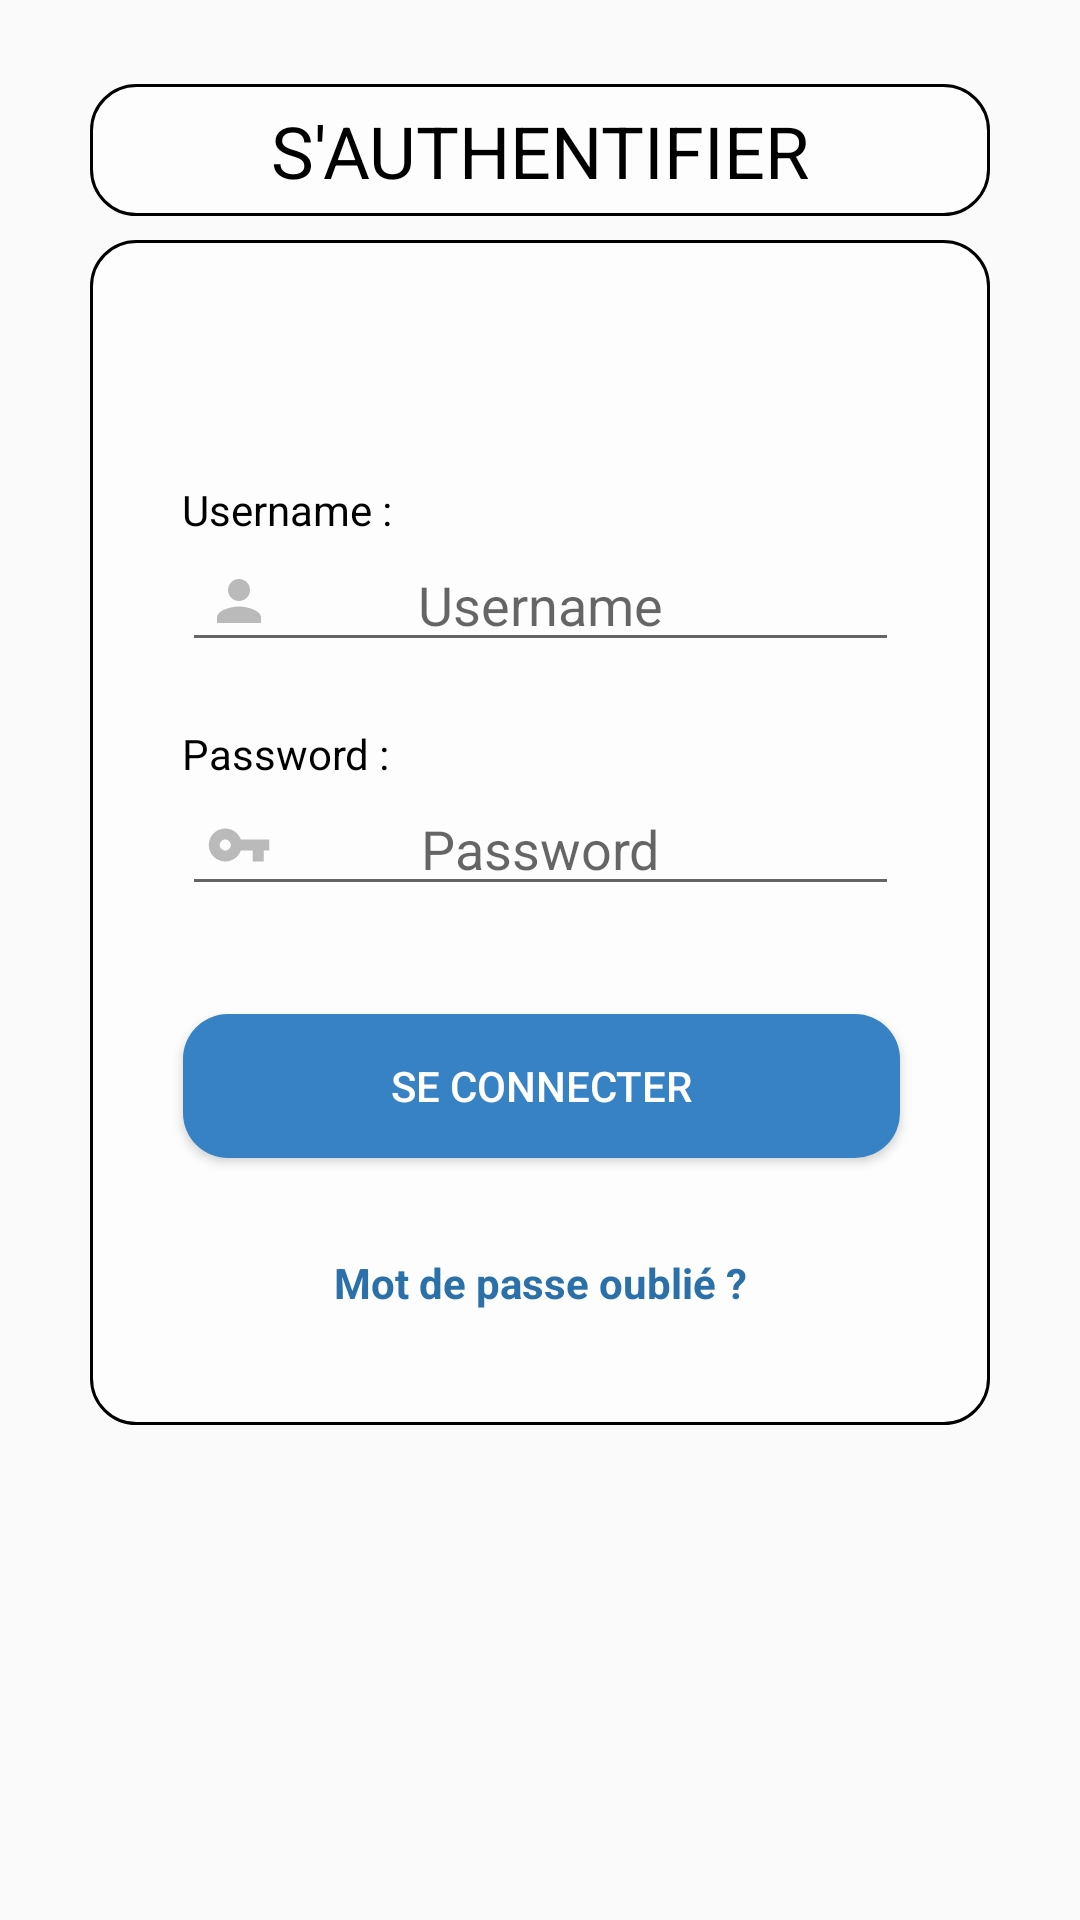

Where to tap for icons on this 1080 × 1920 app screen, as point (x, y):
person: point (239, 601)
vpn key: point (239, 845)
